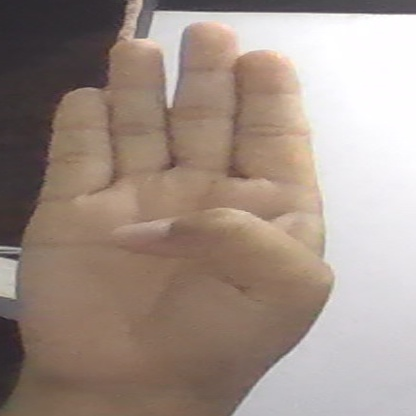B: (16, 21, 333, 401)
